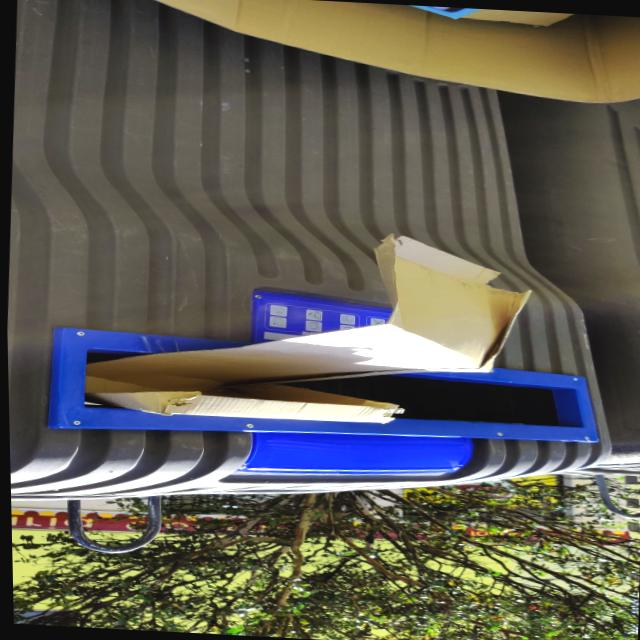Cardboard: (55, 205, 572, 447), (31, 0, 640, 115)
